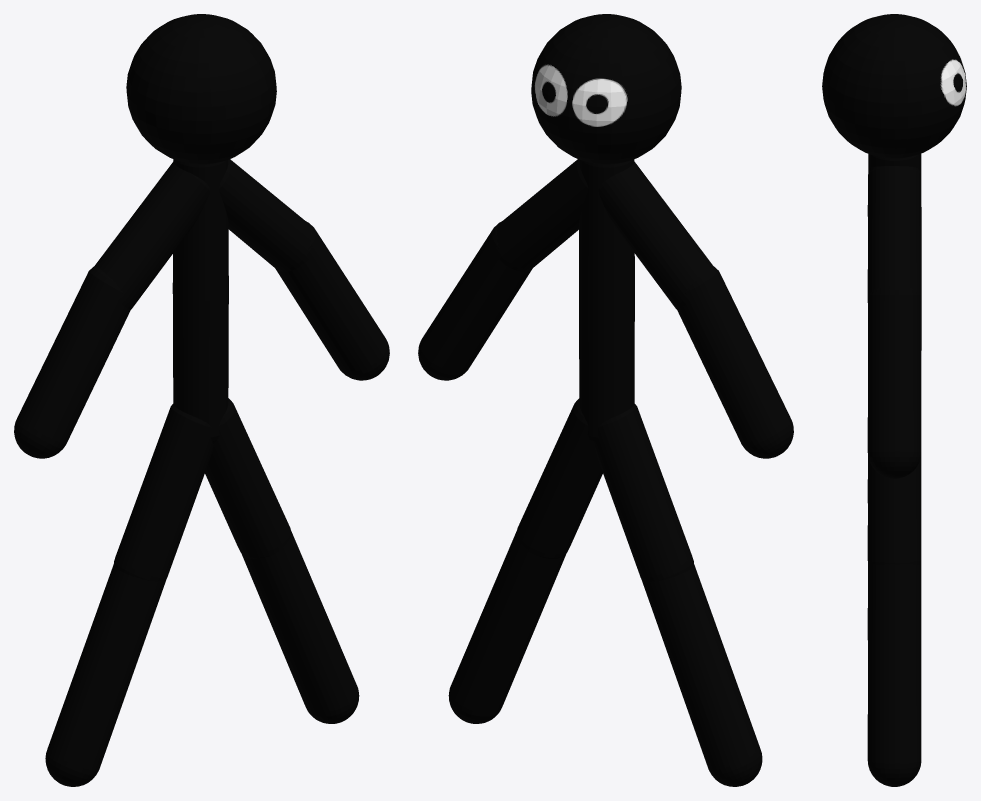
Rendered from Stickman.obj.
The picture shows the model from 3 angles, left to right: view 1: azimuth 30°, elevation 25°; view 2: azimuth 150°, elevation 25°; view 3: azimuth 270°, elevation 25°; orthographic projection. The views are drawn at different scales.
Visible parts, largest first — view 1: default; view 2: default; view 3: default.
Part boxes in pixels (box(x1,y1,x2,y2)): default: box(14, 14, 389, 786); default: box(418, 14, 793, 786); default: box(822, 14, 966, 786).
Bounding box in the file's own units: 1.01 × 1.92 × 0.358.
1 material, 1 textured.
